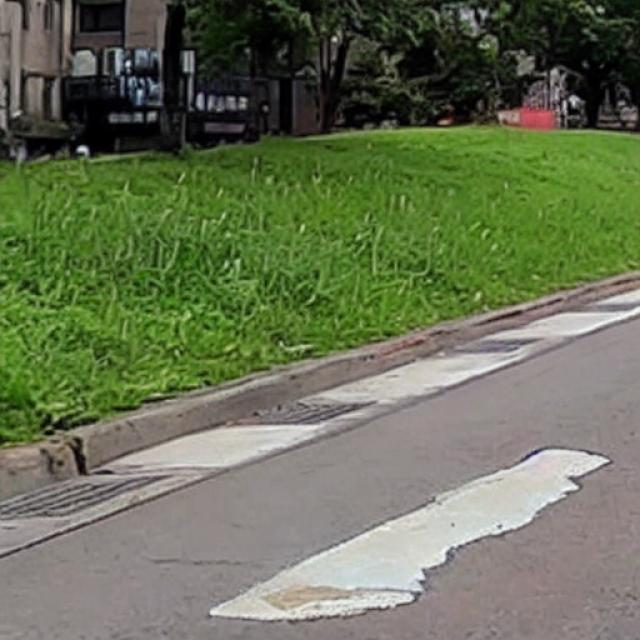puddle: (214, 446, 612, 619)
